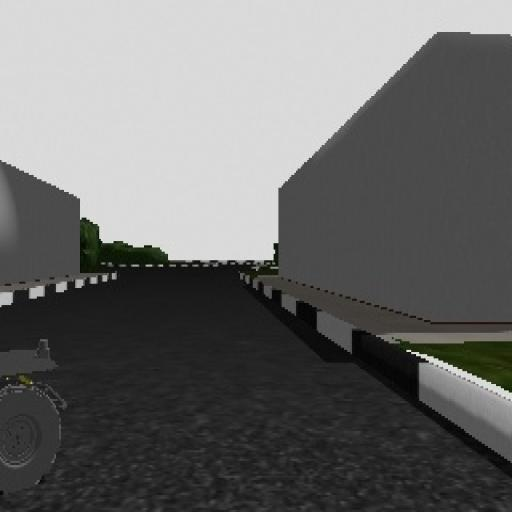huskya200: (1, 336, 75, 502)
